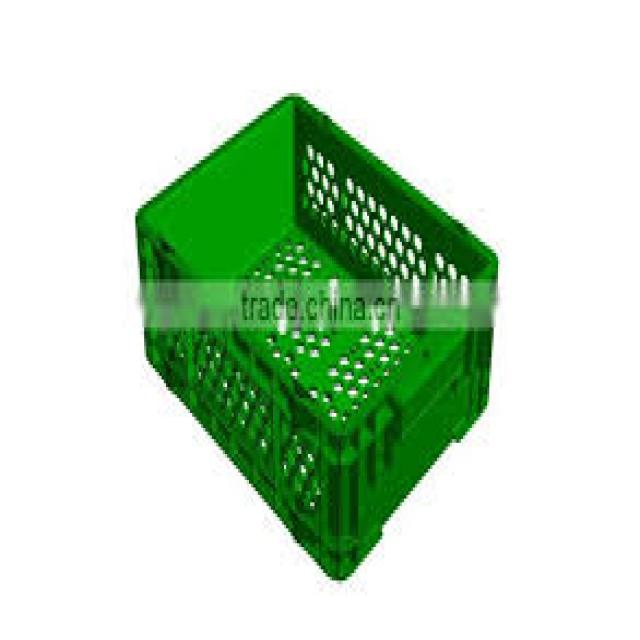basket: (37, 63, 566, 586)
